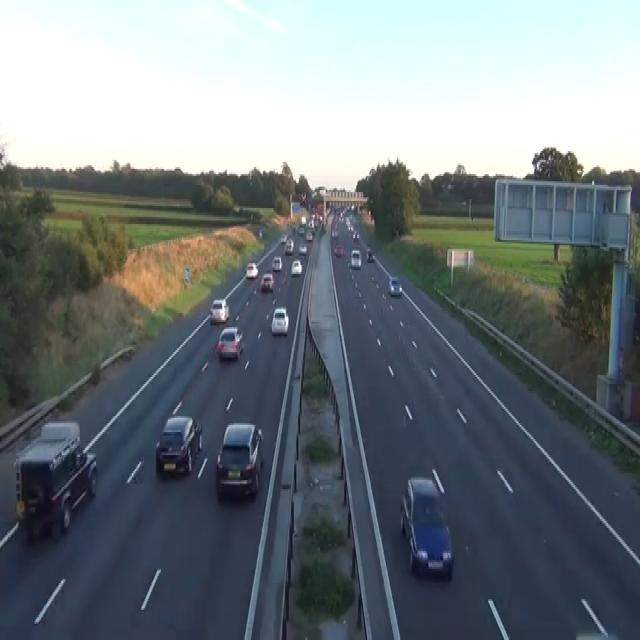Car: (400, 476, 453, 578), (215, 421, 263, 498), (155, 414, 202, 475), (217, 325, 244, 359), (209, 298, 229, 324), (271, 306, 289, 334), (260, 272, 274, 292), (388, 276, 402, 295), (245, 261, 258, 279), (350, 249, 362, 268), (290, 260, 302, 276), (271, 256, 282, 270), (284, 238, 293, 254), (333, 244, 344, 256), (298, 242, 307, 254), (366, 249, 374, 261), (305, 231, 313, 242), (297, 224, 304, 236), (352, 231, 359, 242), (331, 228, 338, 238), (280, 233, 286, 243), (281, 274, 287, 284), (291, 224, 297, 233), (301, 215, 306, 224), (459, 199, 466, 205), (258, 228, 262, 238), (349, 224, 354, 231)
Truck: (13, 420, 97, 542)
